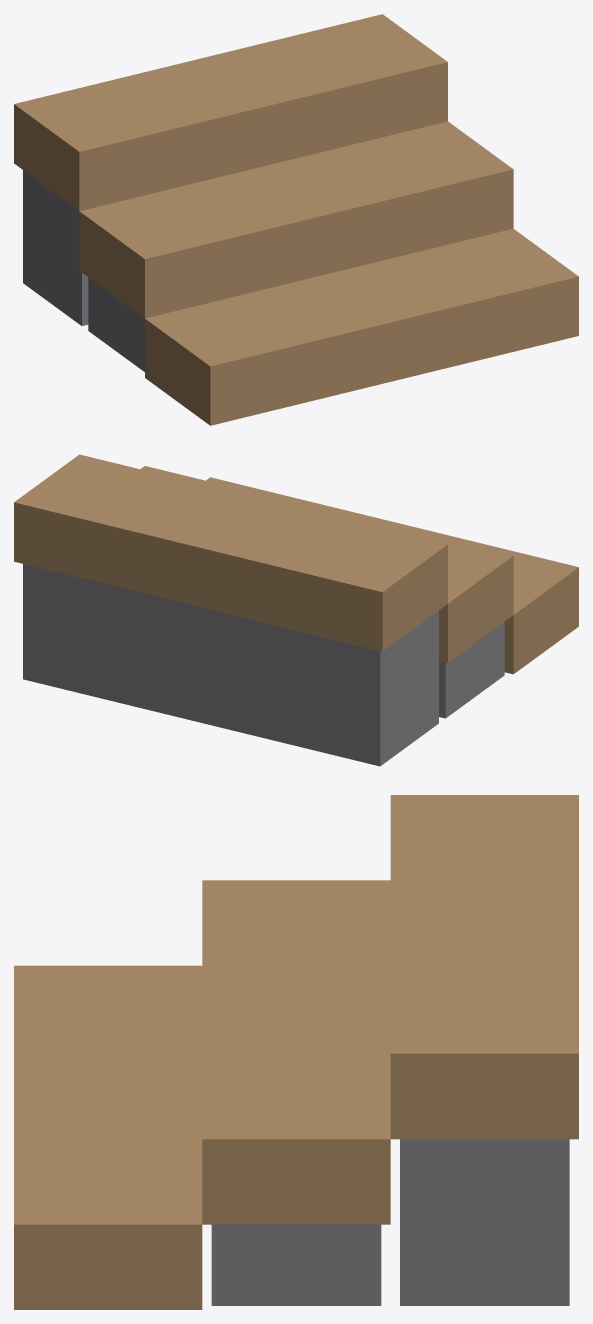
Rendered from IZ_Grada.fbx.
The picture shows the model from 3 angles, top to bottom: view 1: azimuth 30°, elevation 25°; view 2: azimuth 150°, elevation 25°; view 3: azimuth 270°, elevation 25°; orthographic projection. The views are drawn at different scales.
Parts seen in each view (by area): view 1: IZ_Grada; view 2: IZ_Grada; view 3: IZ_Grada.
Part boxes in pixels (x1,y1,x2,y2): IZ_Grada: (14, 14, 578, 425); IZ_Grada: (14, 454, 578, 766); IZ_Grada: (14, 795, 578, 1309).
Bounding box in the file's own units: 1.95 × 0.9 × 1.8.
